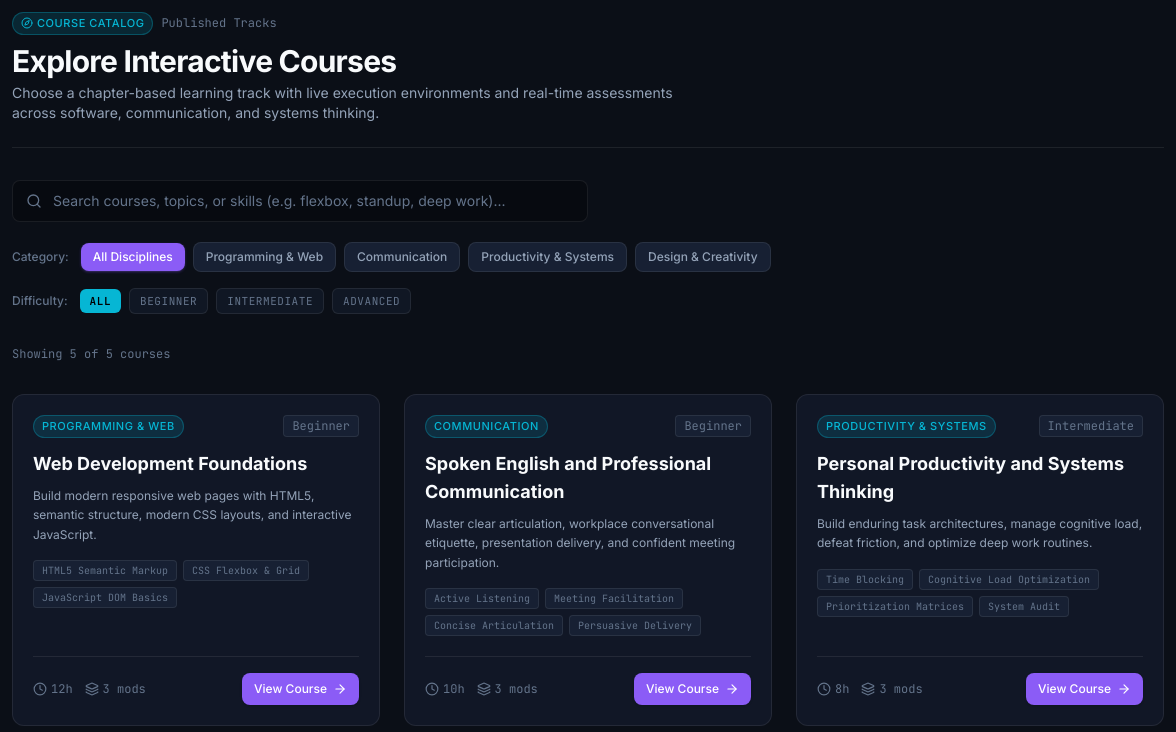
it: ExplorePage Interaction › filters courses by text search query
Replace the text in the field labelled "Search courses" with "flexbox". click: {"x": 300, "y": 200}
box: [12,180,588,222]
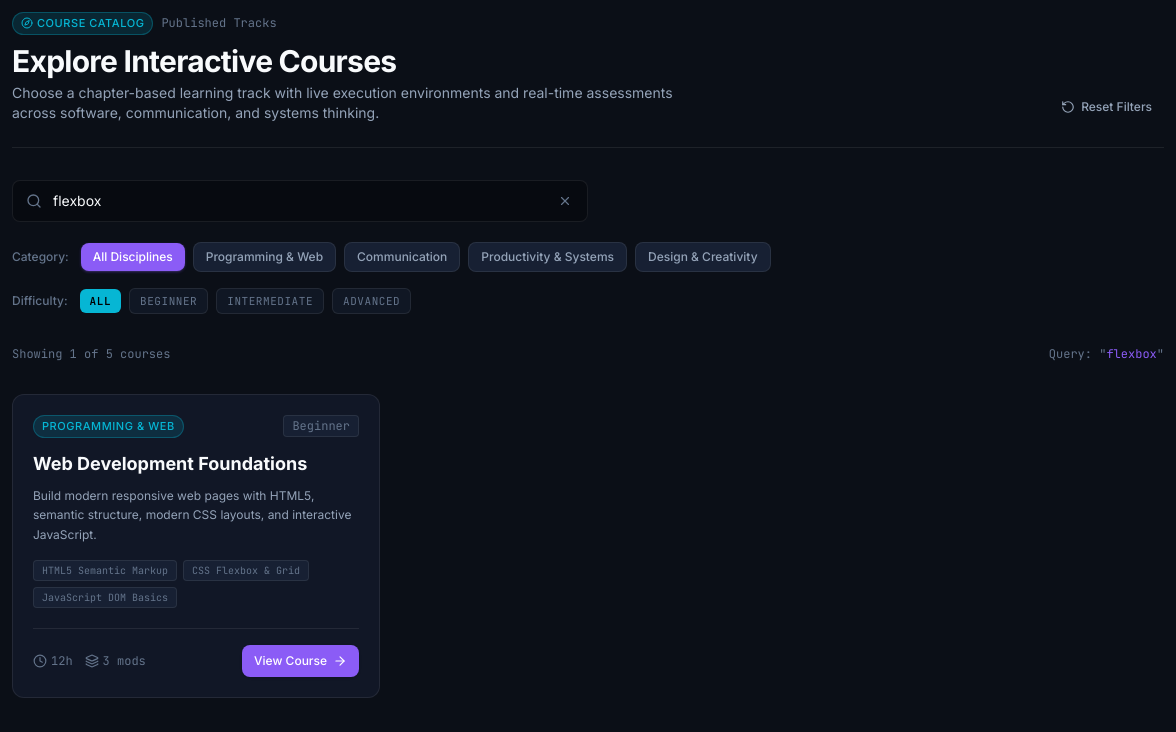
Expected: the heading "Web Development Foundations" is shown, [33,452,307,474]
Expected: the heading "Spoken English and Professional Communication" is gone
Expected: the text "Showing 1 of 5 courses" is shown, [12,346,170,362]
